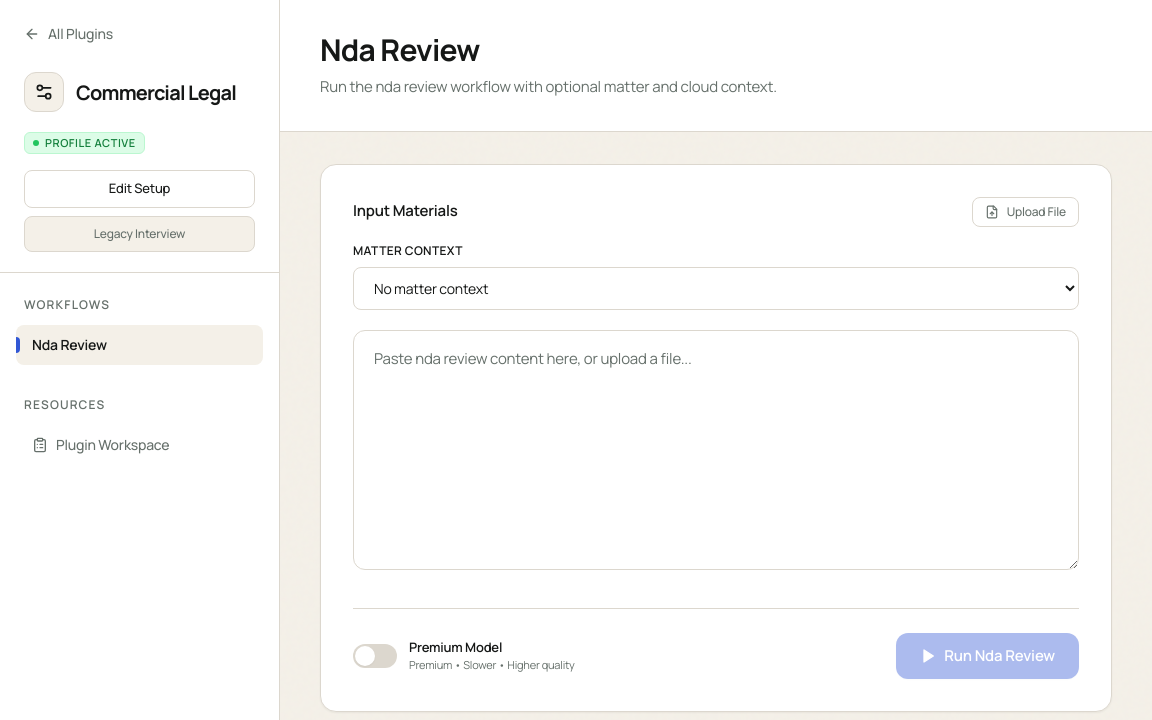
Test: PluginPage skill execution › renders the analysis result after a successful run
Type "Mutual NDA between Acme and Beta." into the text box with placeholder "Paste nda review content here, or upload a file...". click: (716, 450)
box: [353,330,1079,570]
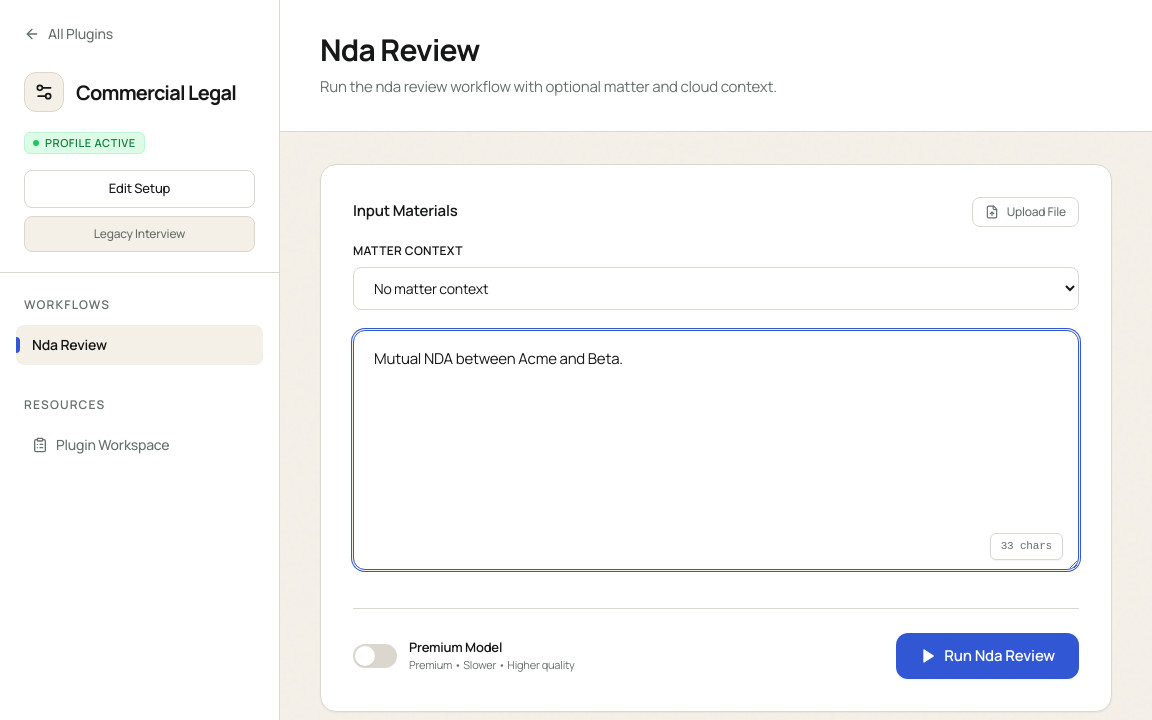
Click the button "Run Nda Review". click: (988, 656)
box: [896,632,1079,679]
(page scrolled)
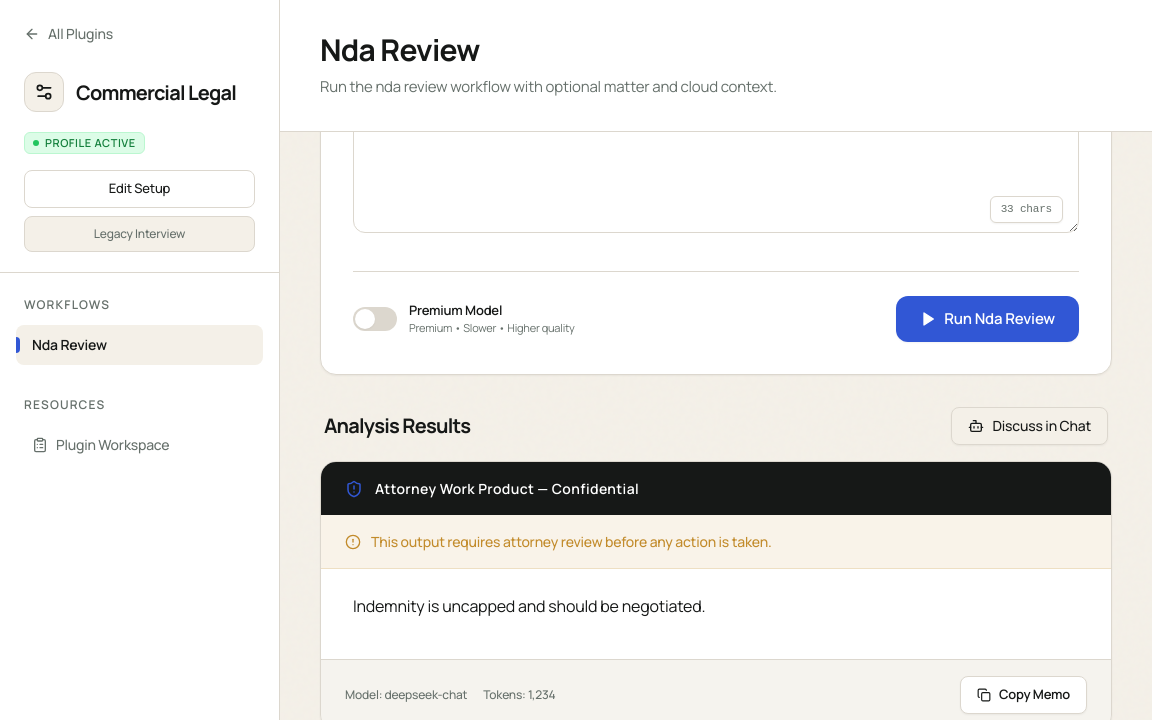
expect the heading "Analysis Results" is shown: met, box [324,412,470,440]
expect the text "Indemnity is uncapped and should be negotiated." is shown: met, box [353,595,705,617]
expect the button "Discuss in Chat" is shown: met, box [952,407,1108,445]
